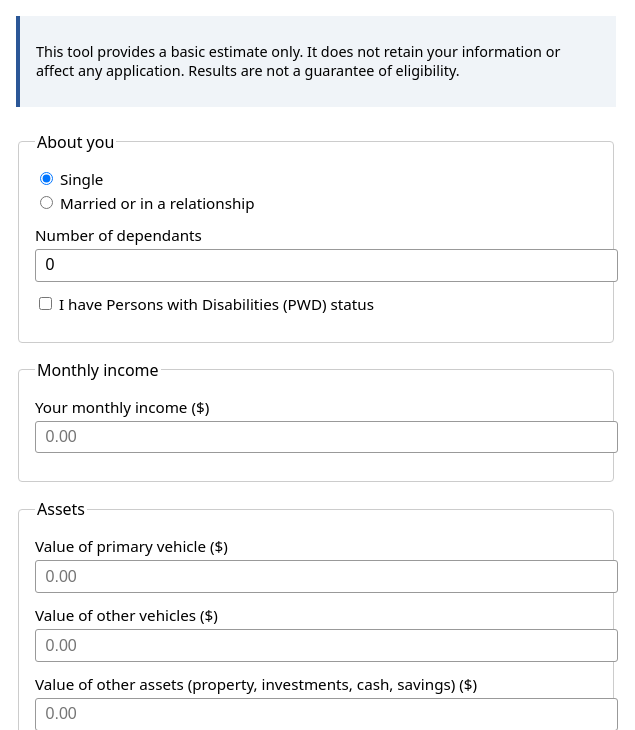
EligibilityEstimator component › shows spouse fields when Couple is selected
Click the radio button labelled "Married or in a relationship": (46, 202) [40,196,53,209]
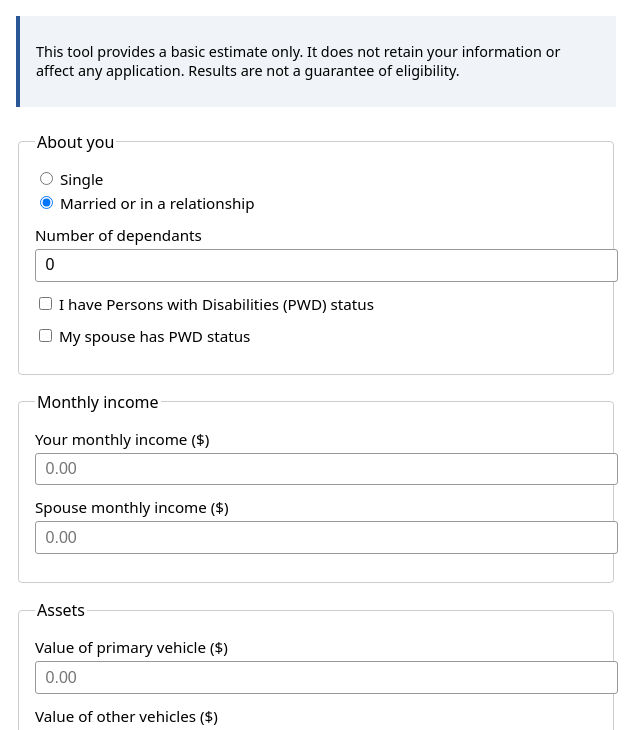
Check: the number field labelled "Spouse monthly income ($)" is shown, box [35,521,618,554]
